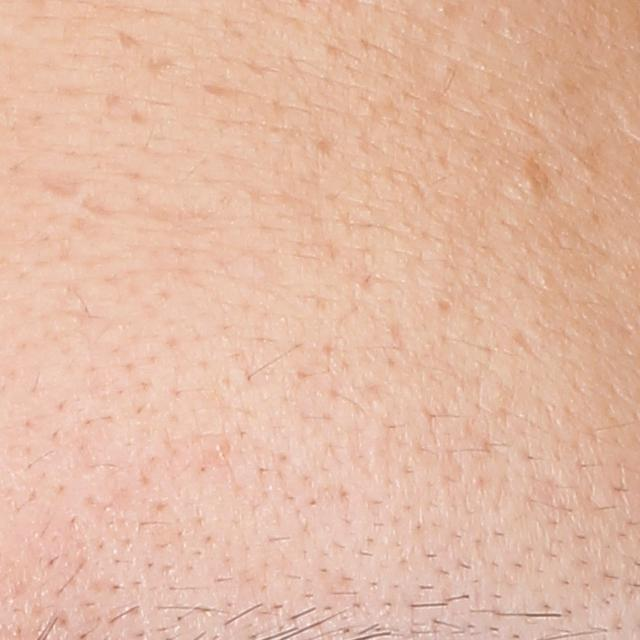atrophic_scar: (31, 168, 96, 198), (81, 193, 118, 219), (141, 51, 182, 71), (119, 28, 144, 52)
comedo: (520, 175, 540, 194)
